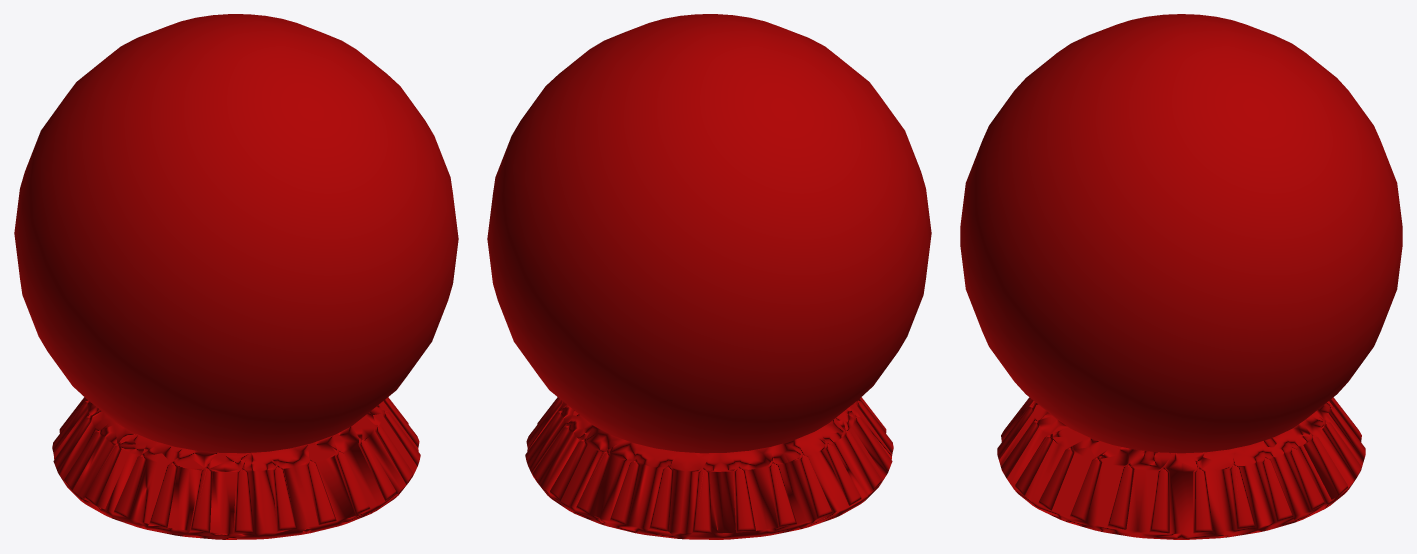
Rendered from SnowGlobe.fbx.
3 views of the same model, side by side, from view 1: azimuth 30°, elevation 25°; view 2: azimuth 150°, elevation 25°; view 3: azimuth 270°, elevation 25° (orthographic).
Visible parts, largest first — view 1: merge1_0; view 2: merge1_0; view 3: merge1_0.
Boxes of the visible parts, left/top/right/bottom form: merge1_0: left=14, top=14, right=458, bottom=539; merge1_0: left=487, top=14, right=931, bottom=539; merge1_0: left=960, top=14, right=1402, bottom=539.
Size of the model in its own units: 12.1 by 12.93 by 12.05.
